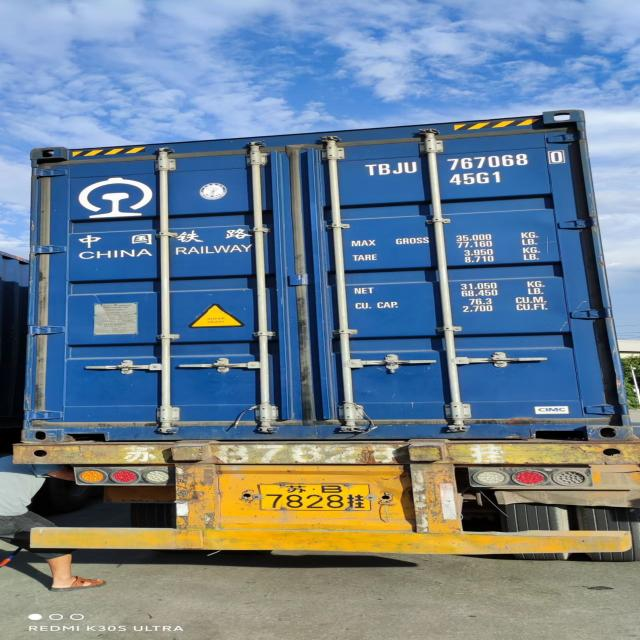seal: (379, 351, 401, 378)
